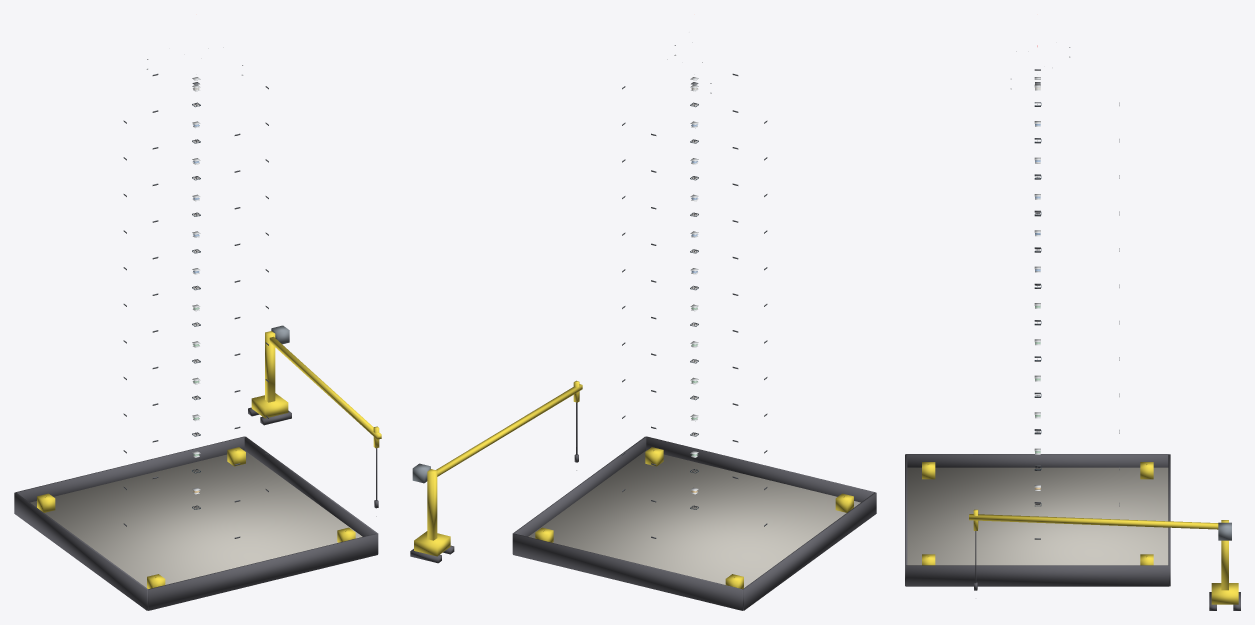
Rendered from skyscraper.glb.
3 renders of one model, left to right at view 1: azimuth 30°, elevation 25°; view 2: azimuth 150°, elevation 25°; view 3: azimuth 270°, elevation 25°, orthographic.
Visible parts, largest first — view 1: ST_Pad, ST_Fence_0, ST_Fence_2, ST_Fence_1, ST_Fence_3, ST_CraneBoom, ST_CraneTower, ST_CraneBase; view 2: ST_Pad, ST_Fence_1, ST_Fence_2, ST_Fence_0, ST_Fence_3, ST_CraneBoom, ST_CraneTower, ST_CraneBase; view 3: ST_Pad, ST_Fence_3, ST_Fence_2, ST_CraneBoom, ST_CraneBase.
Part boxes in pixels (x1,y1,x2,y2): ST_Pad: [30, 450, 362, 587]; ST_Fence_0: [148, 533, 377, 610]; ST_Fence_2: [14, 492, 148, 610]; ST_Fence_1: [14, 436, 244, 502]; ST_Fence_3: [244, 436, 378, 553]; ST_CraneBoom: [269, 336, 381, 439]; ST_CraneTower: [265, 331, 275, 402]; ST_CraneBase: [251, 393, 288, 418]; ST_Pad: [528, 450, 860, 587]; ST_Fence_1: [513, 533, 742, 610]; ST_Fence_2: [742, 492, 876, 610]; ST_Fence_0: [646, 436, 876, 502]; ST_Fence_3: [512, 436, 646, 553]; ST_CraneBoom: [436, 384, 582, 476]; ST_CraneTower: [427, 469, 437, 540]; ST_CraneBase: [414, 531, 450, 556]; ST_Pad: [907, 467, 1168, 565]; ST_Fence_3: [906, 565, 1169, 586]; ST_Fence_2: [906, 454, 1169, 467]; ST_CraneBoom: [969, 514, 1218, 529]; ST_CraneBase: [1211, 583, 1238, 604].
Bounding box in the file's own units: 12.86 × 21.78 × 12.55.
